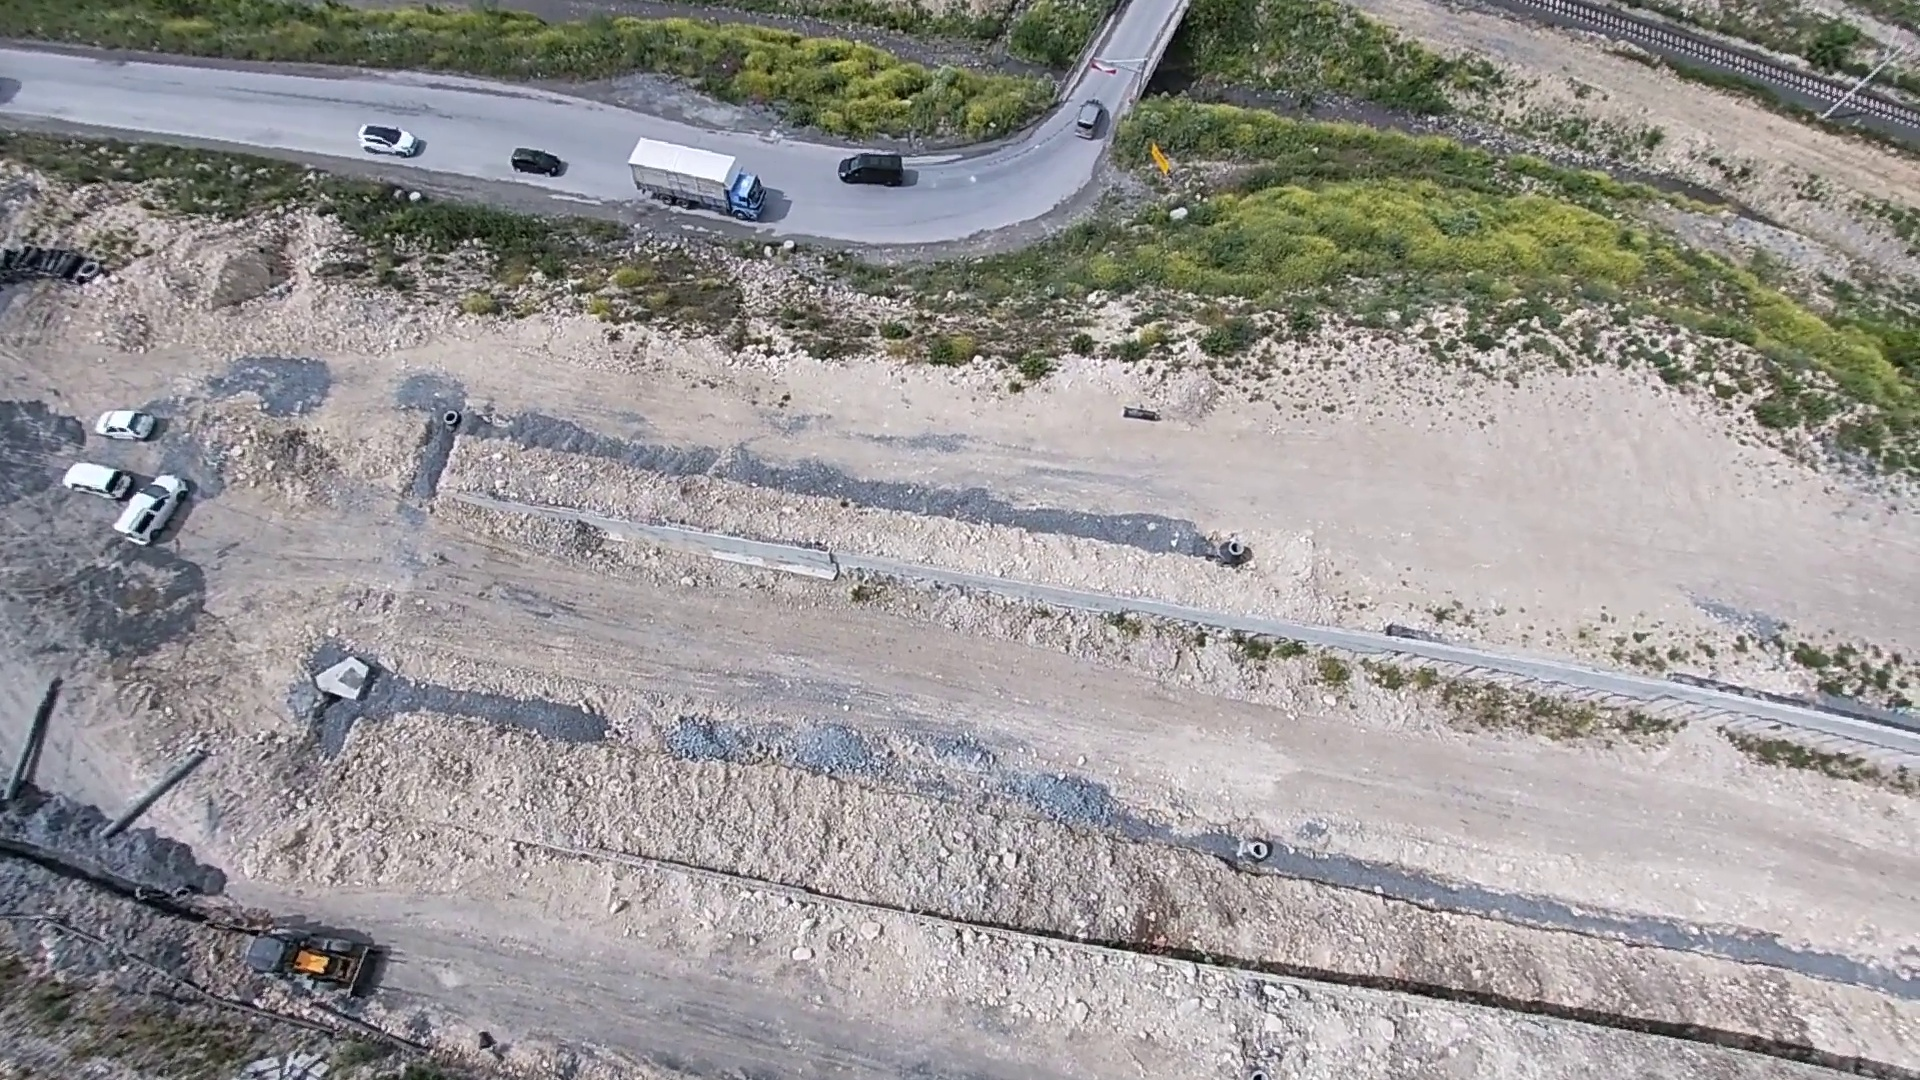araba: (111, 469, 194, 549), (63, 454, 132, 505), (836, 148, 913, 185), (91, 402, 156, 444), (359, 124, 423, 157), (1073, 95, 1112, 142), (512, 146, 563, 181)
kamyon: (622, 129, 764, 219)
traktor: (243, 907, 392, 1001)
